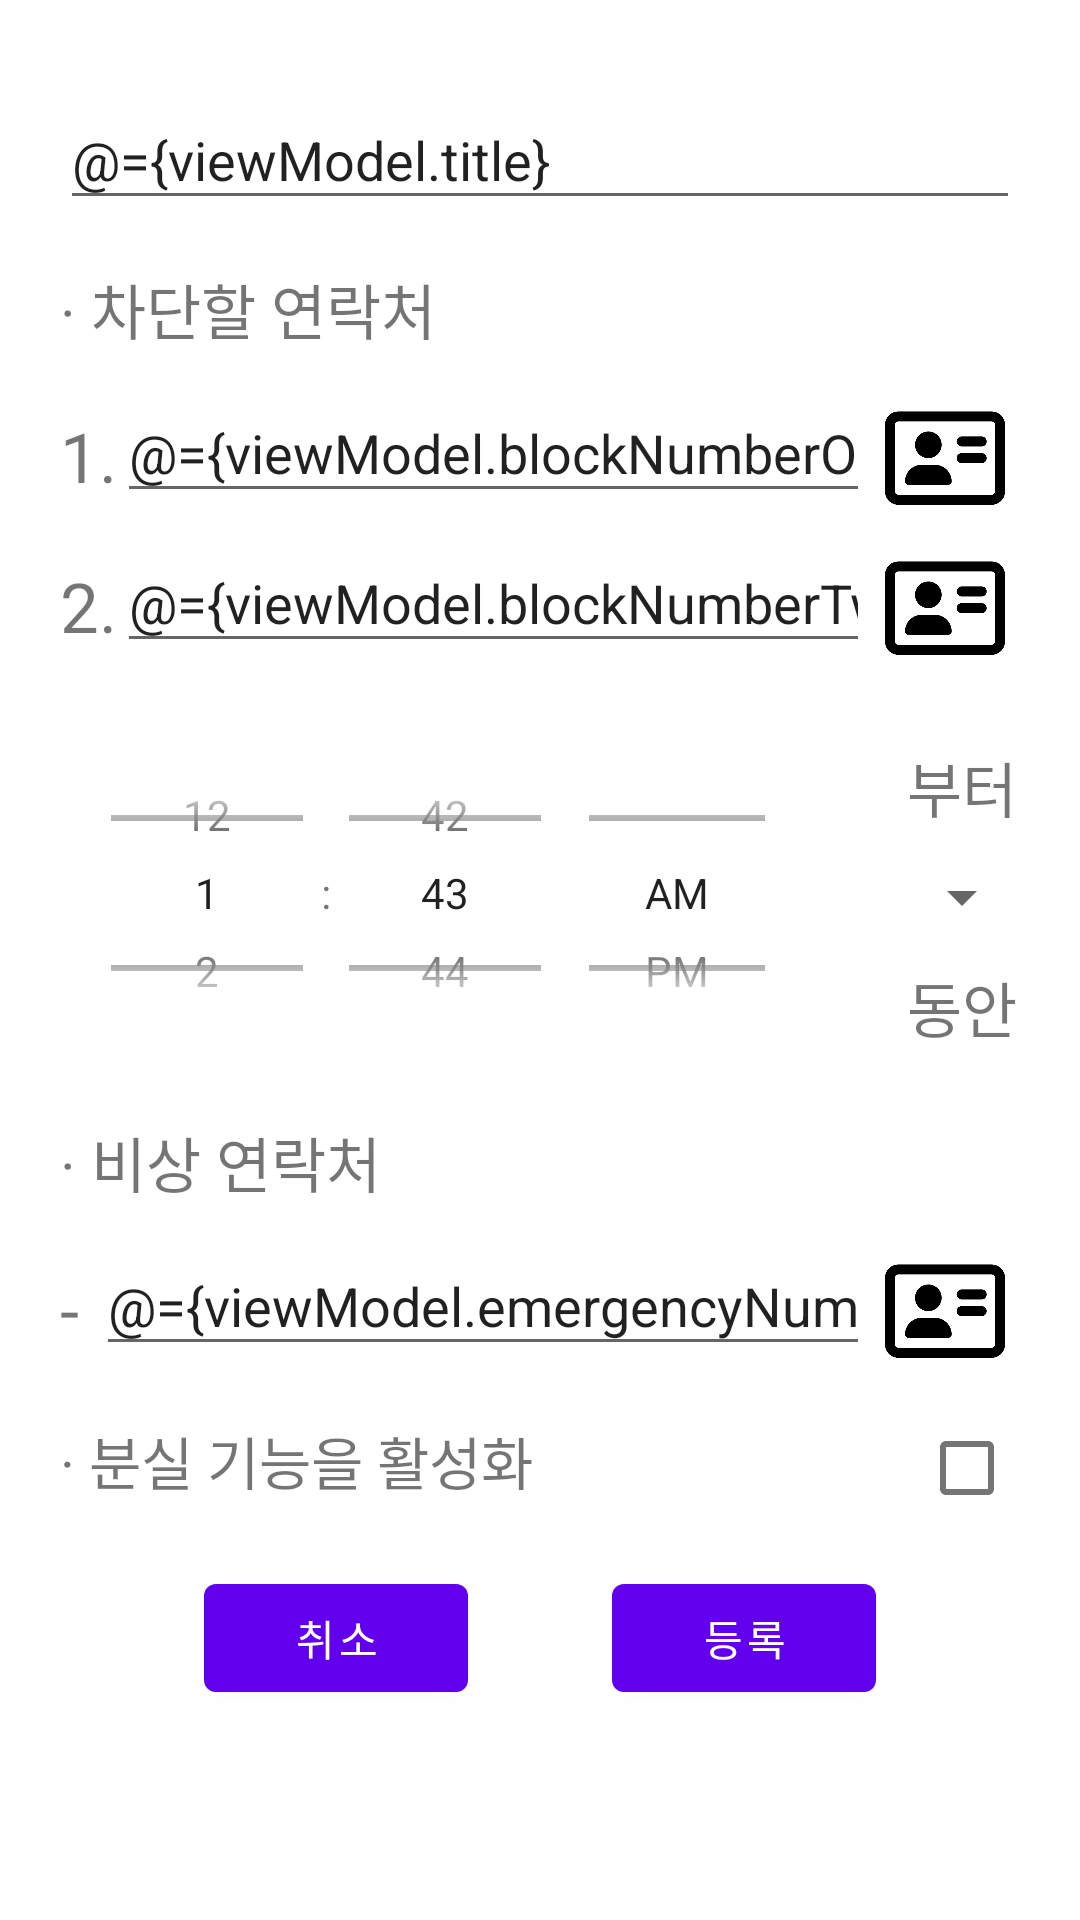

Screen size 1080 × 1920. Icon name, then its center in pixels as point (x, y):
address: point (945, 458), point (945, 608), point (945, 1311)
